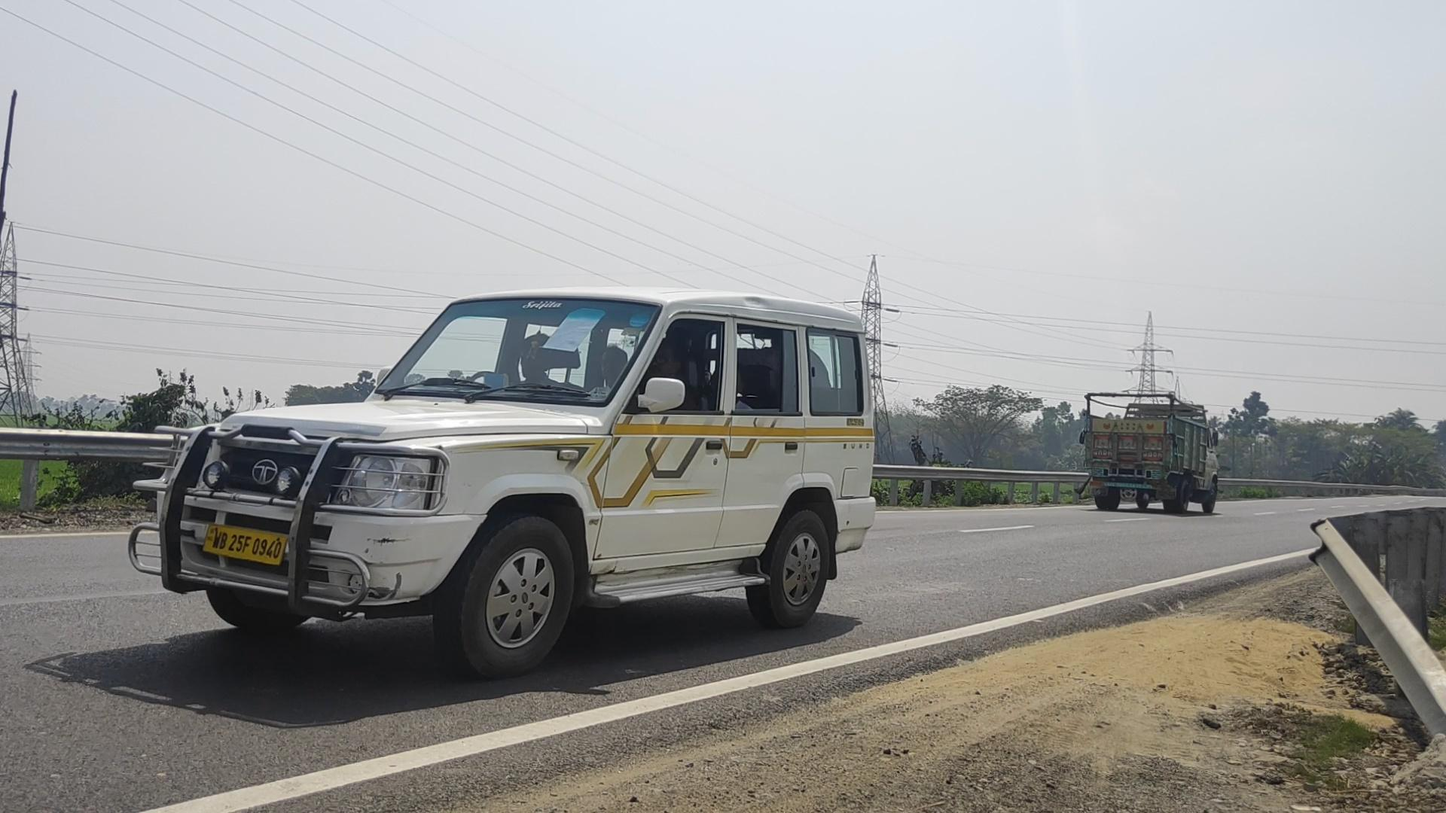car: (128, 285, 877, 678)
truck: (1079, 391, 1219, 516)
